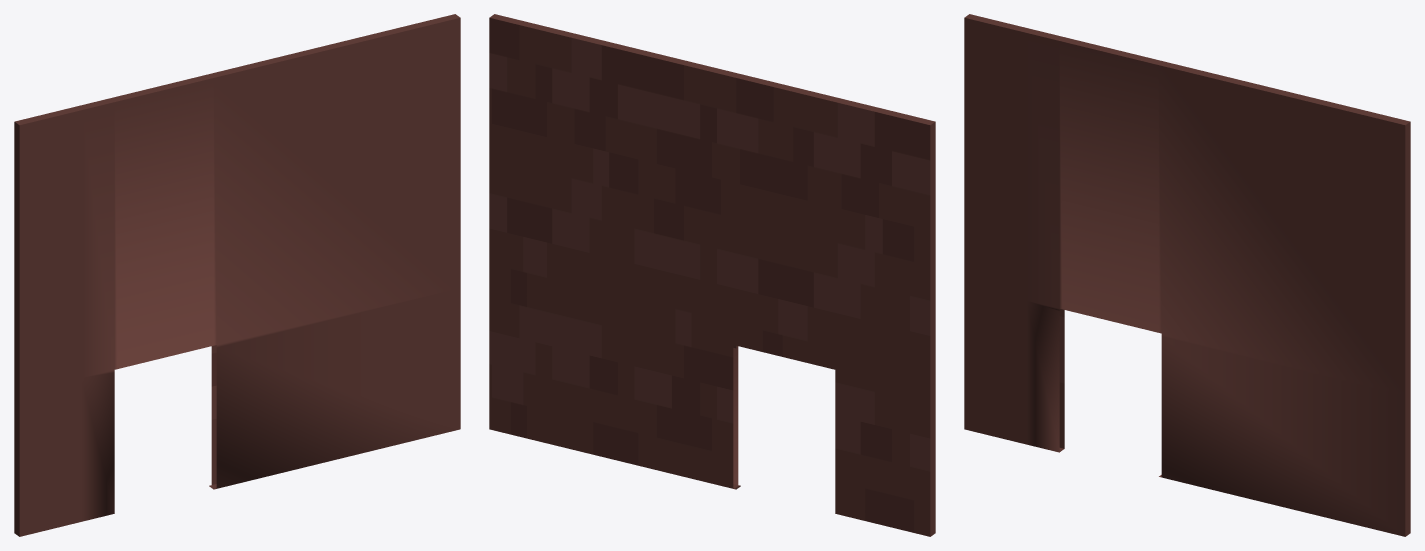
Rendered from pared.fbx.
3 renders of one model, left to right at view 1: azimuth 30°, elevation 25°; view 2: azimuth 150°, elevation 25°; view 3: azimuth 330°, elevation 25°, orthographic.
Visible parts, largest first — view 1: wall_plain_5x4m_ext_009.001; view 2: wall_plain_5x4m_ext_009.001; view 3: wall_plain_5x4m_ext_009.001.
Boxes of the visible parts, x1,y1,x2,y2 form: wall_plain_5x4m_ext_009.001: (14, 14, 460, 536); wall_plain_5x4m_ext_009.001: (489, 14, 935, 536); wall_plain_5x4m_ext_009.001: (964, 14, 1410, 536).
Size of the model in its own units: 500 by 446 by 10.04.
